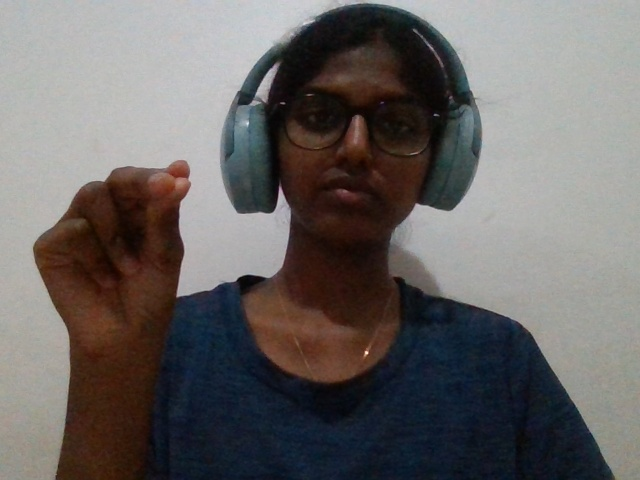No: (18, 139, 232, 423)
